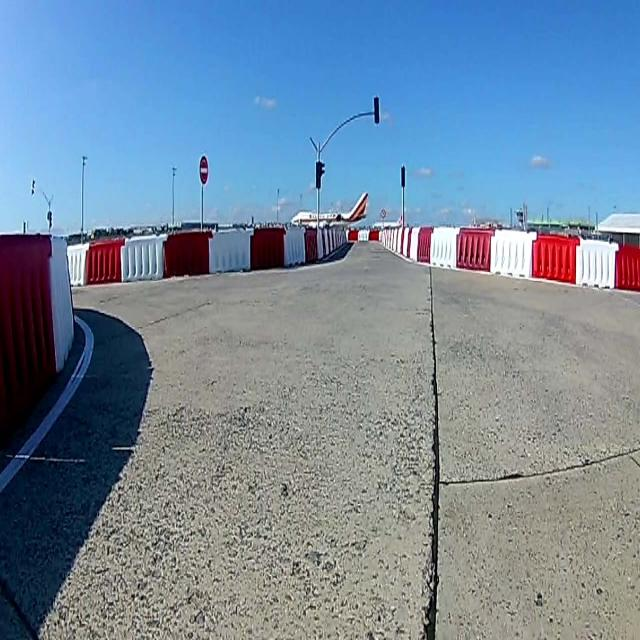girisyok: (199, 154, 209, 183)
